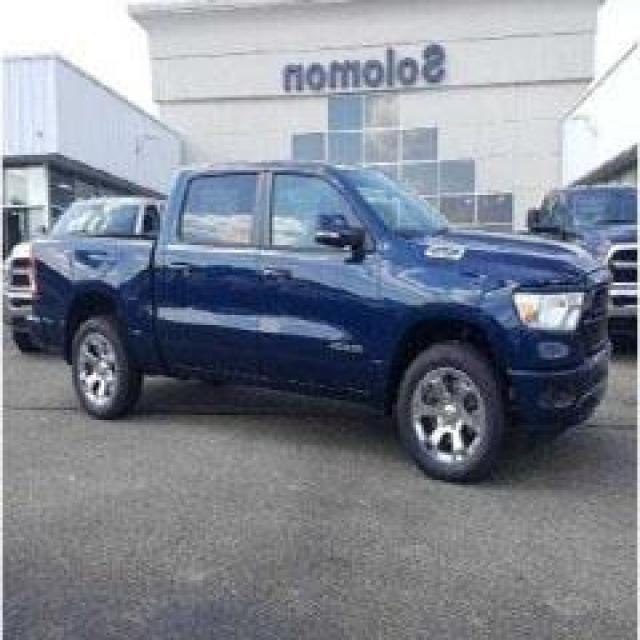car: (21, 109, 624, 479)
